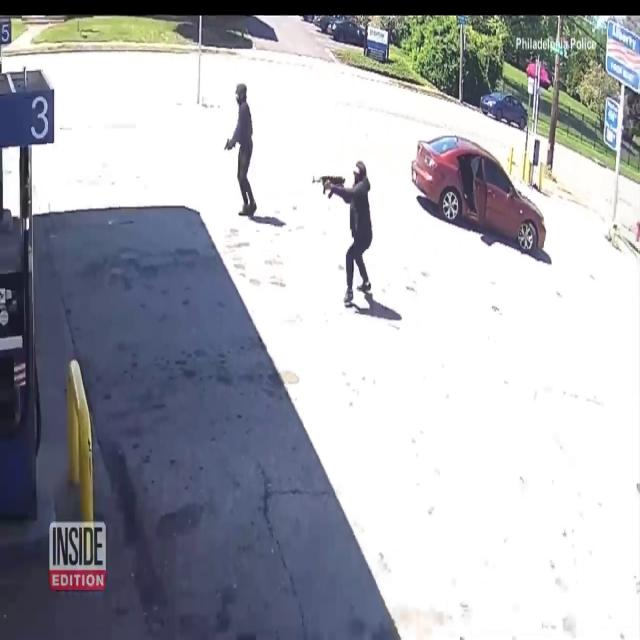penembakan: (310, 156, 380, 311), (222, 80, 264, 223)
